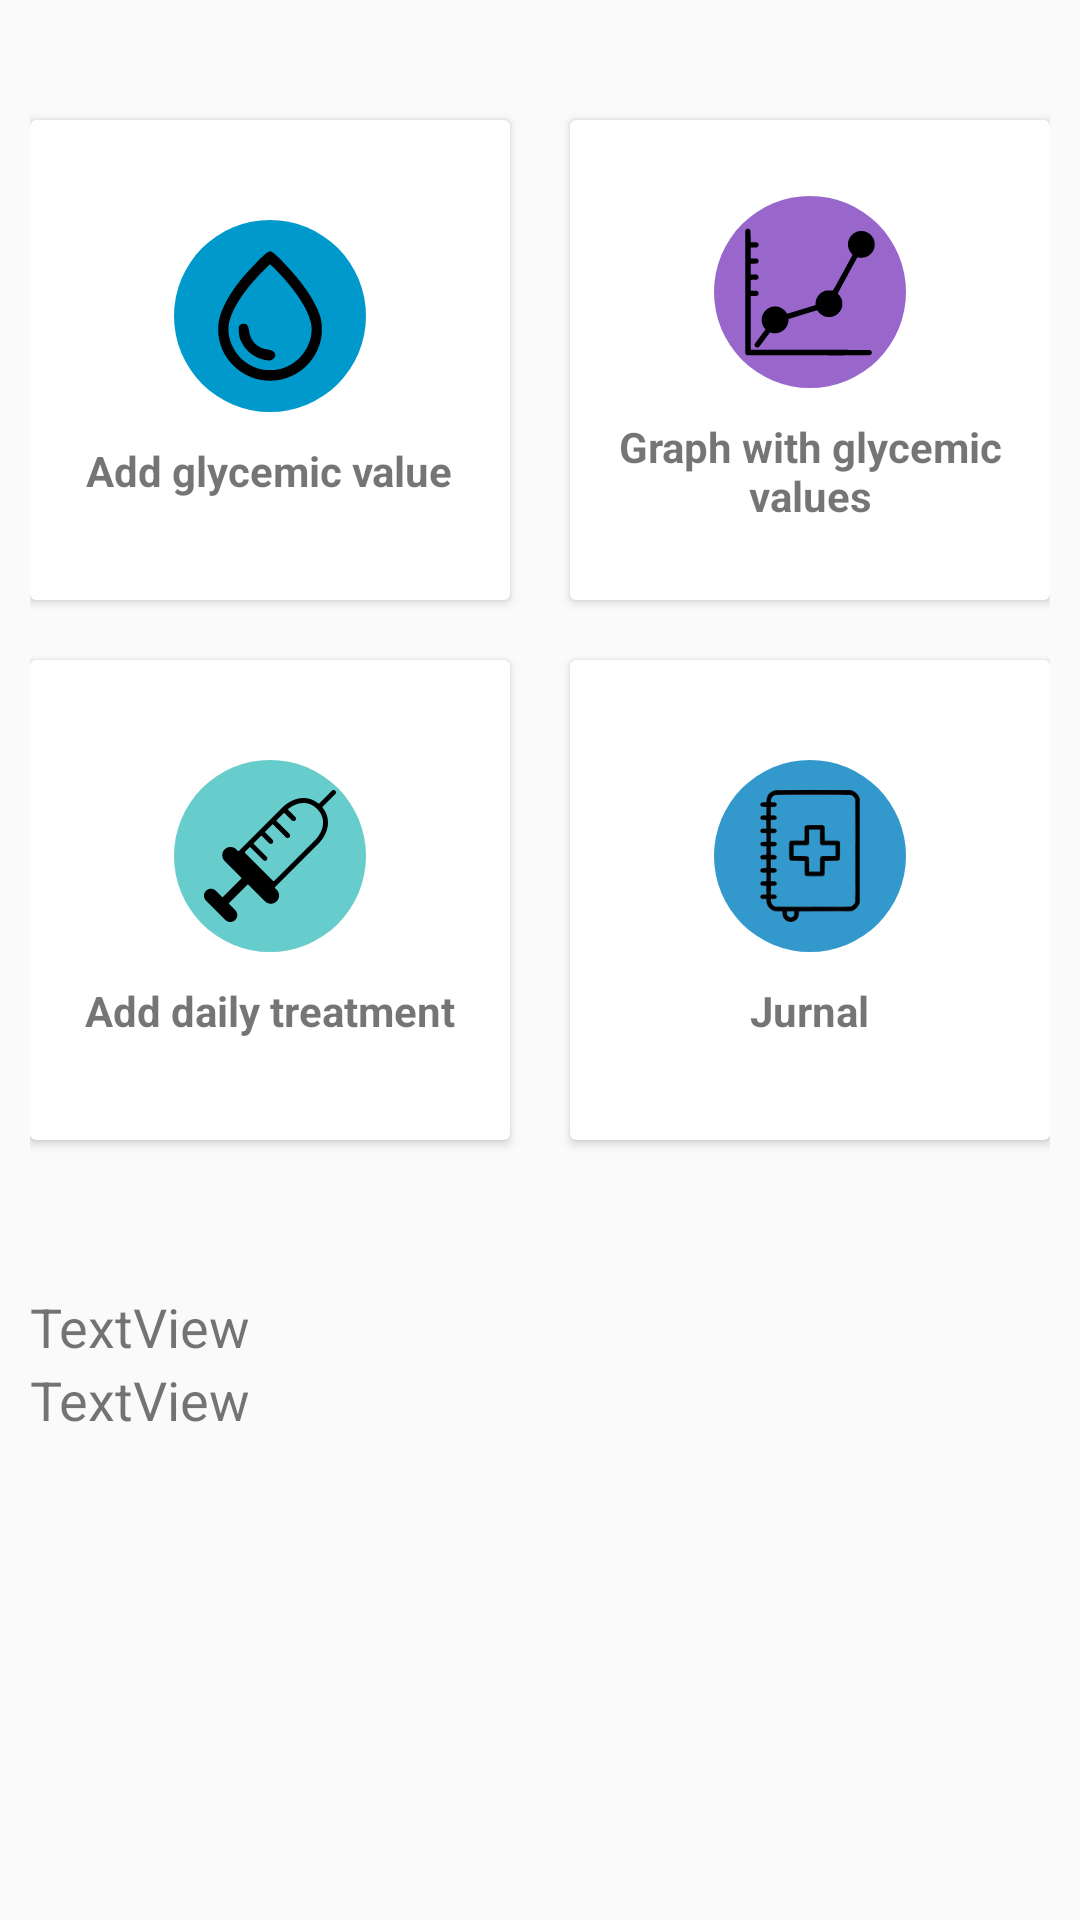

Icon bounding boxes for this 1080px x 1920px phone screenshot, format BBox(x1, y1, x2, y2):
blood: BBox(174, 220, 366, 412)
injection: BBox(174, 760, 366, 952)
